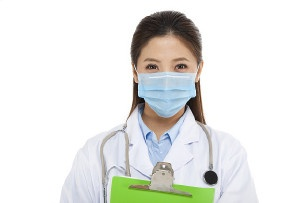Mask: (131, 54, 199, 122)
